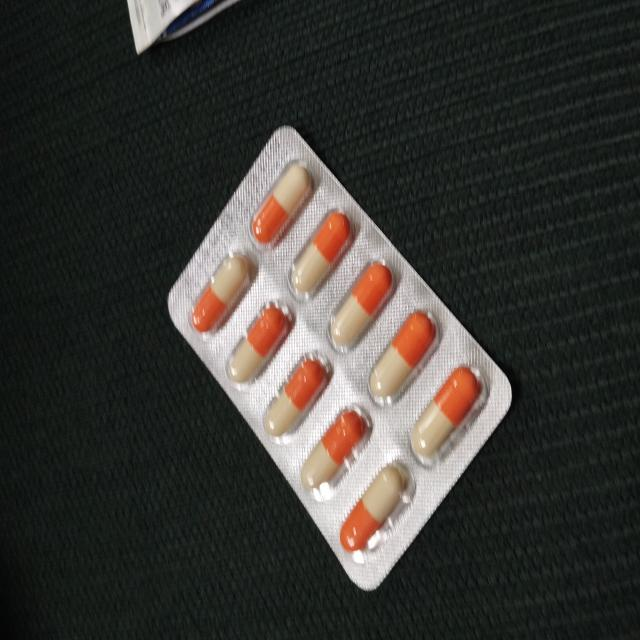B3: (166, 128, 516, 587)
